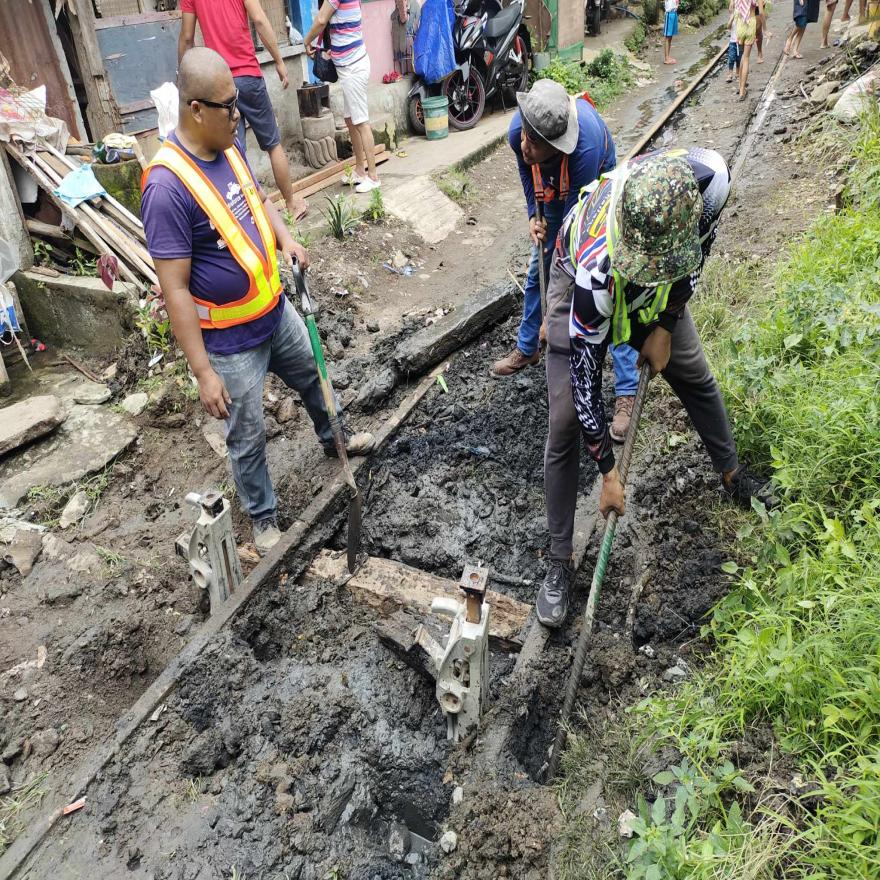railway-gap: (276, 488, 325, 554)
